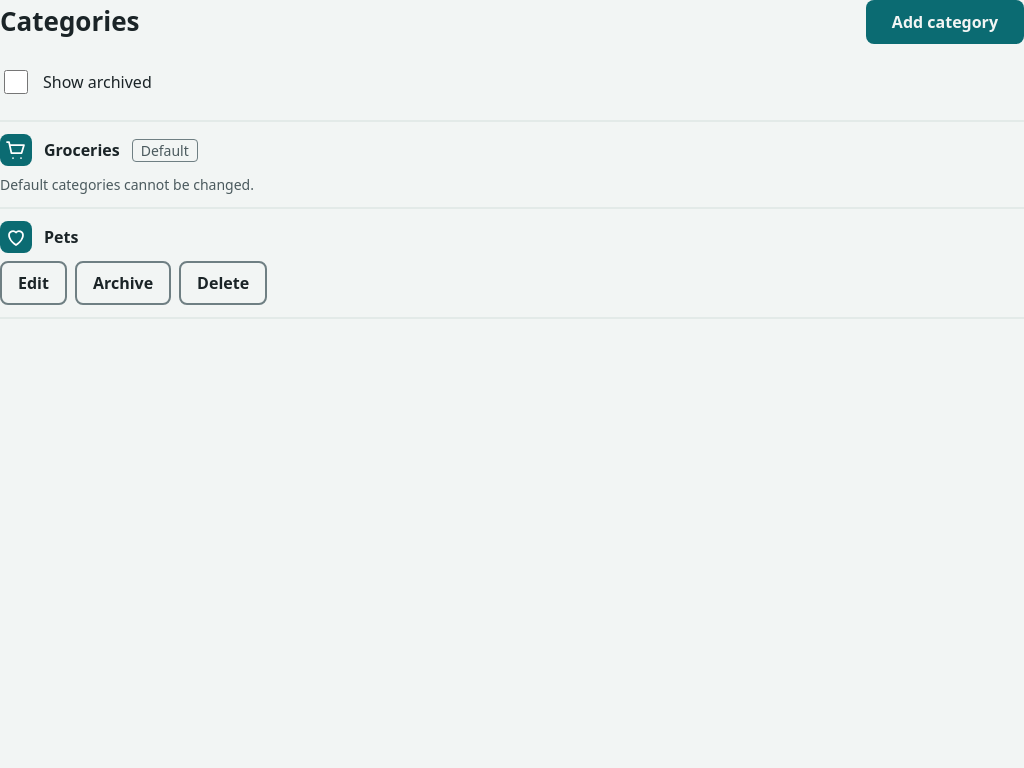
CategoriesView › edits a category in the sheet
Click the button with aria-label "Edit Pets": (33, 283) [0,261,67,305]
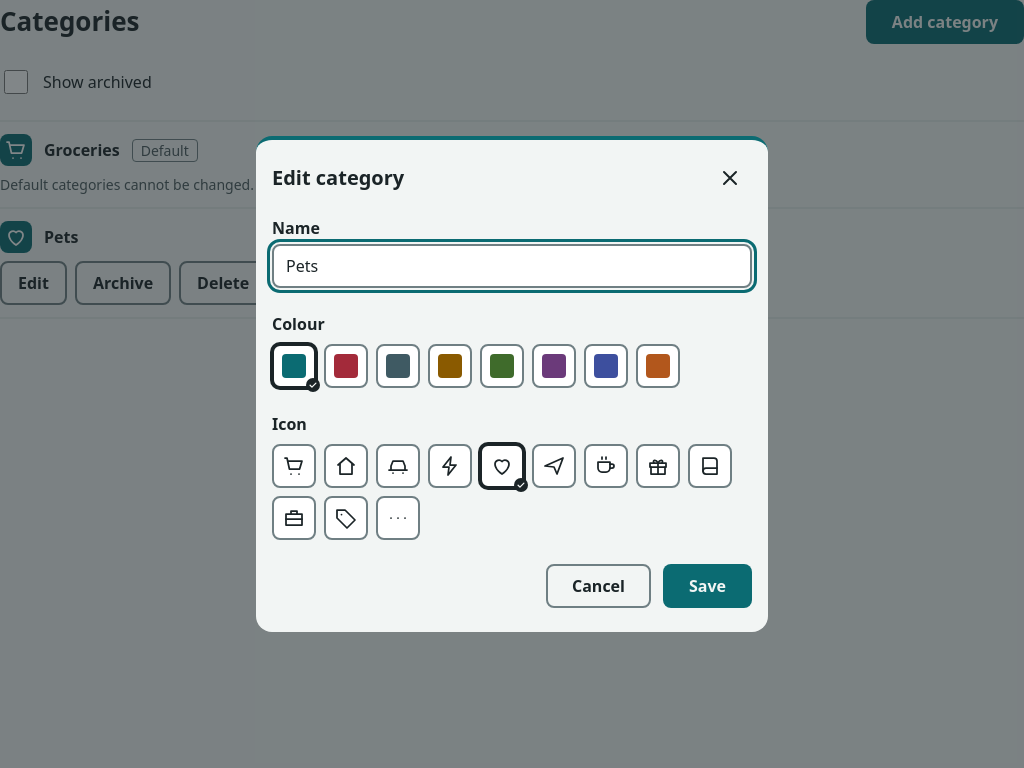
Now the heading "Edit category" is shown, box [272,166,404,190]
Replace the text in the field labelled "Name" with "Cats": (512, 266) [272,244,752,288]
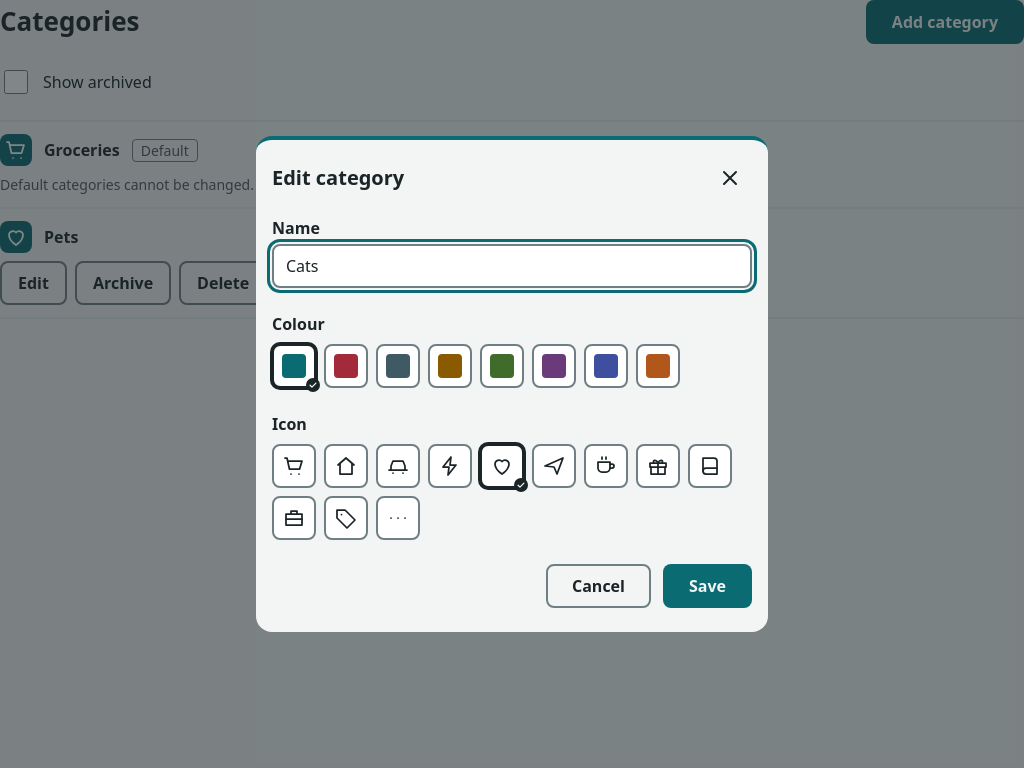
Submit the form, box [272,216,752,608]
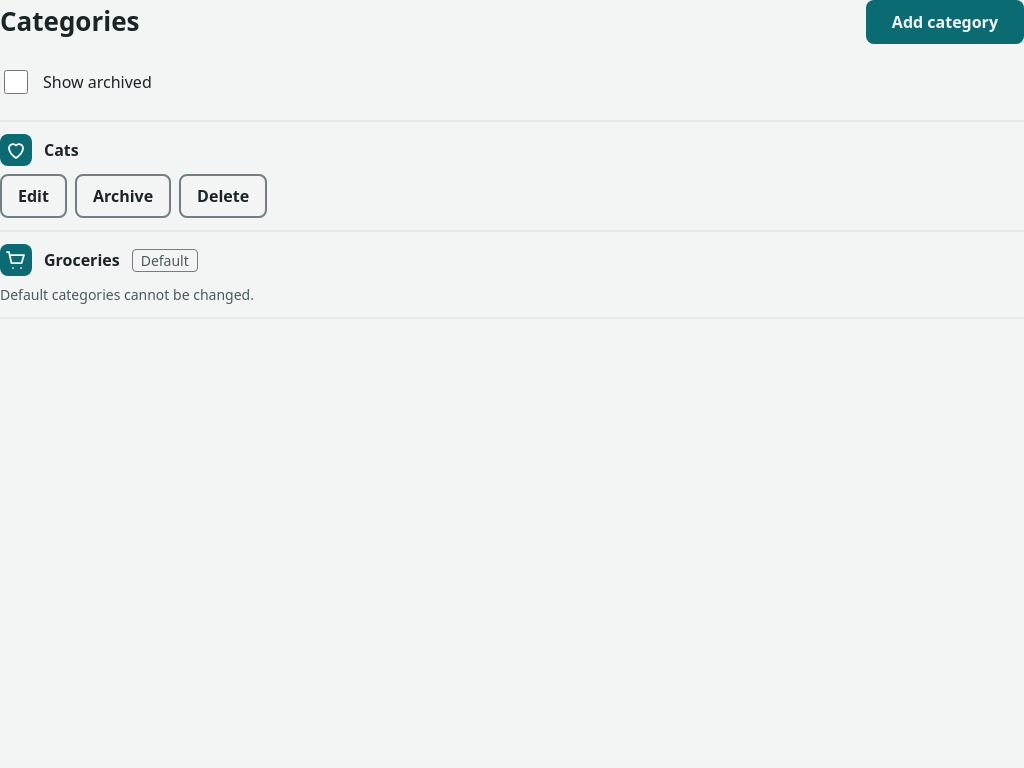
Now the text "Cats" is shown, box [44,138,79,162]
